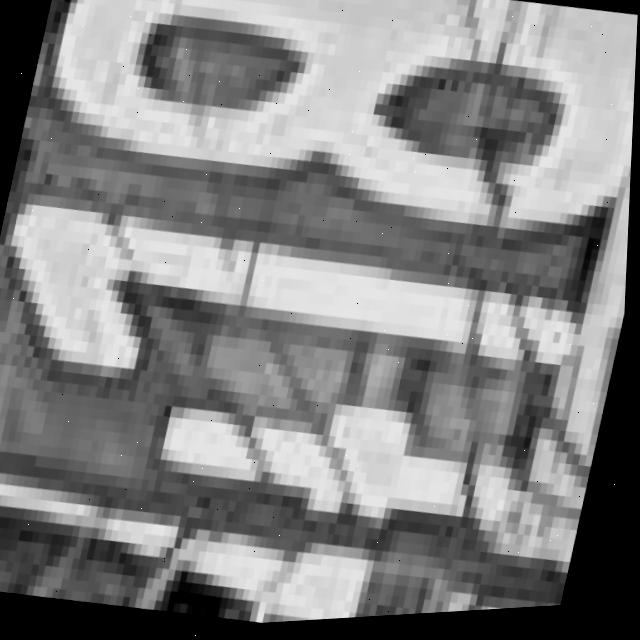character: (0, 144, 607, 476), (14, 0, 640, 288), (0, 317, 546, 640)
